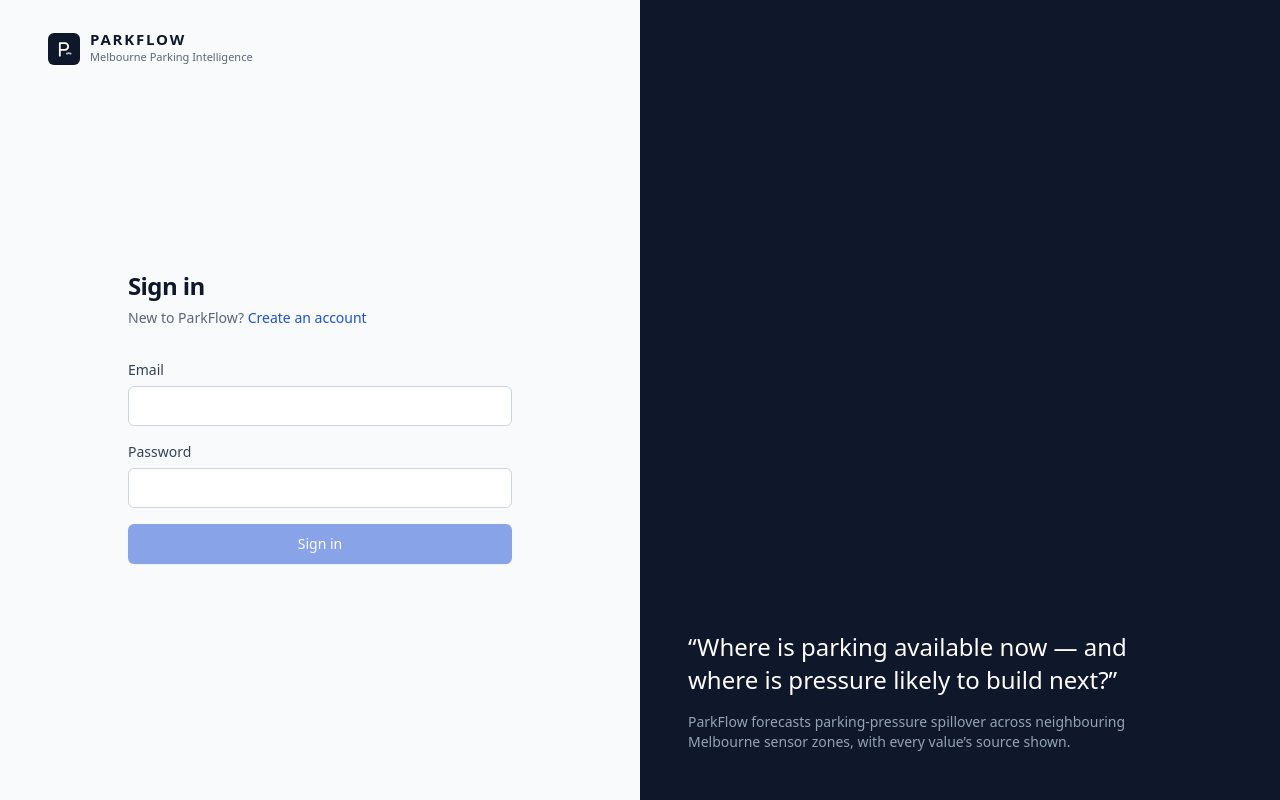
Test: auth › shows server errors on failed login
Type "a@b.co" into the field labelled "Email" at x=320, y=406, box top-left (128, 386), bottom-right (512, 426)
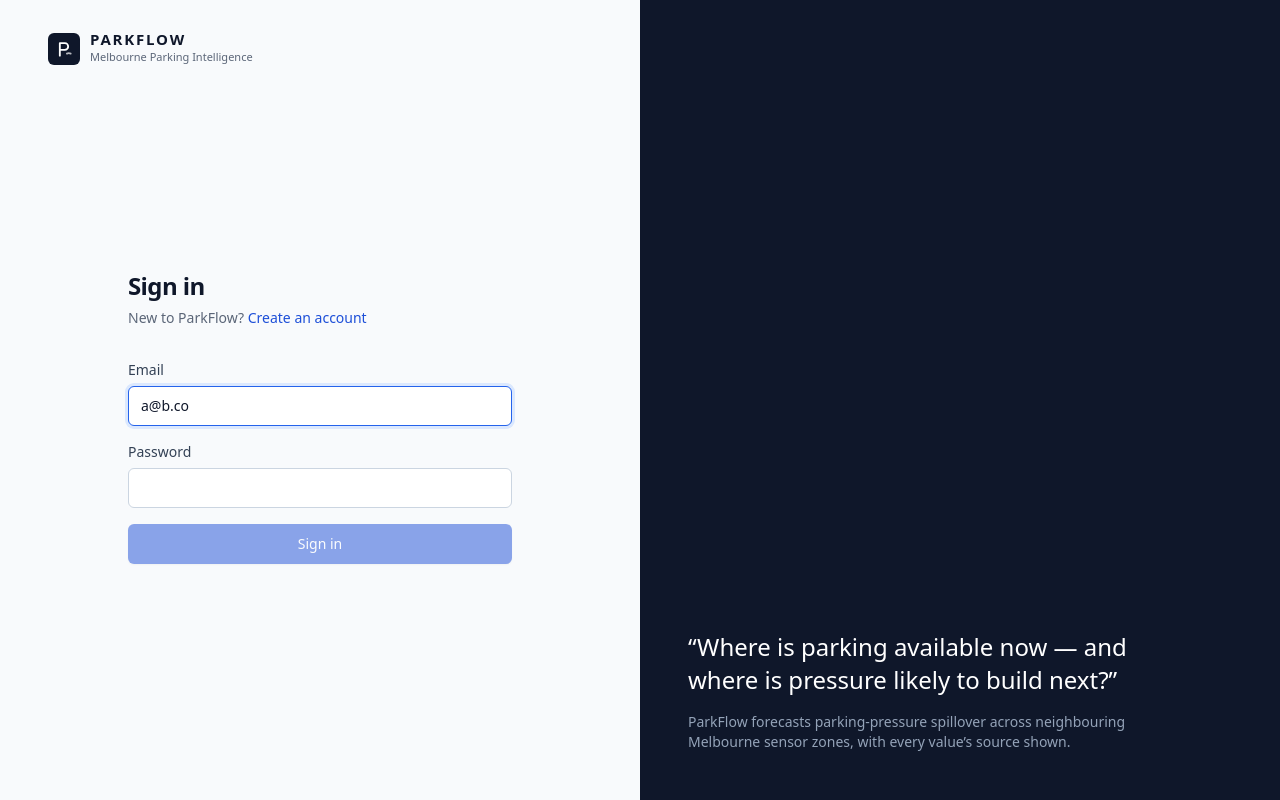
Type "wrong-pass" into the password field labelled "Password" at x=320, y=488, box top-left (128, 468), bottom-right (512, 508)
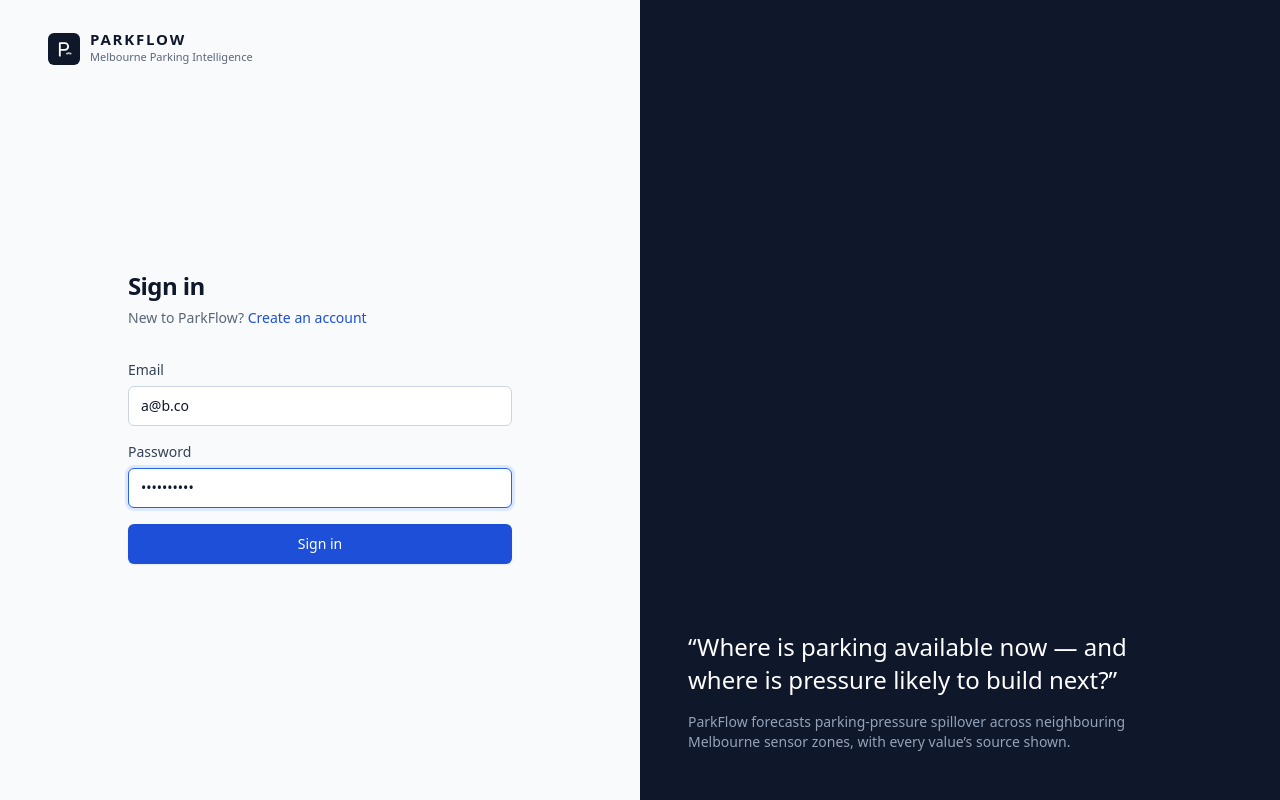
Click the button "Sign in" at x=320, y=544, box top-left (128, 524), bottom-right (512, 564)
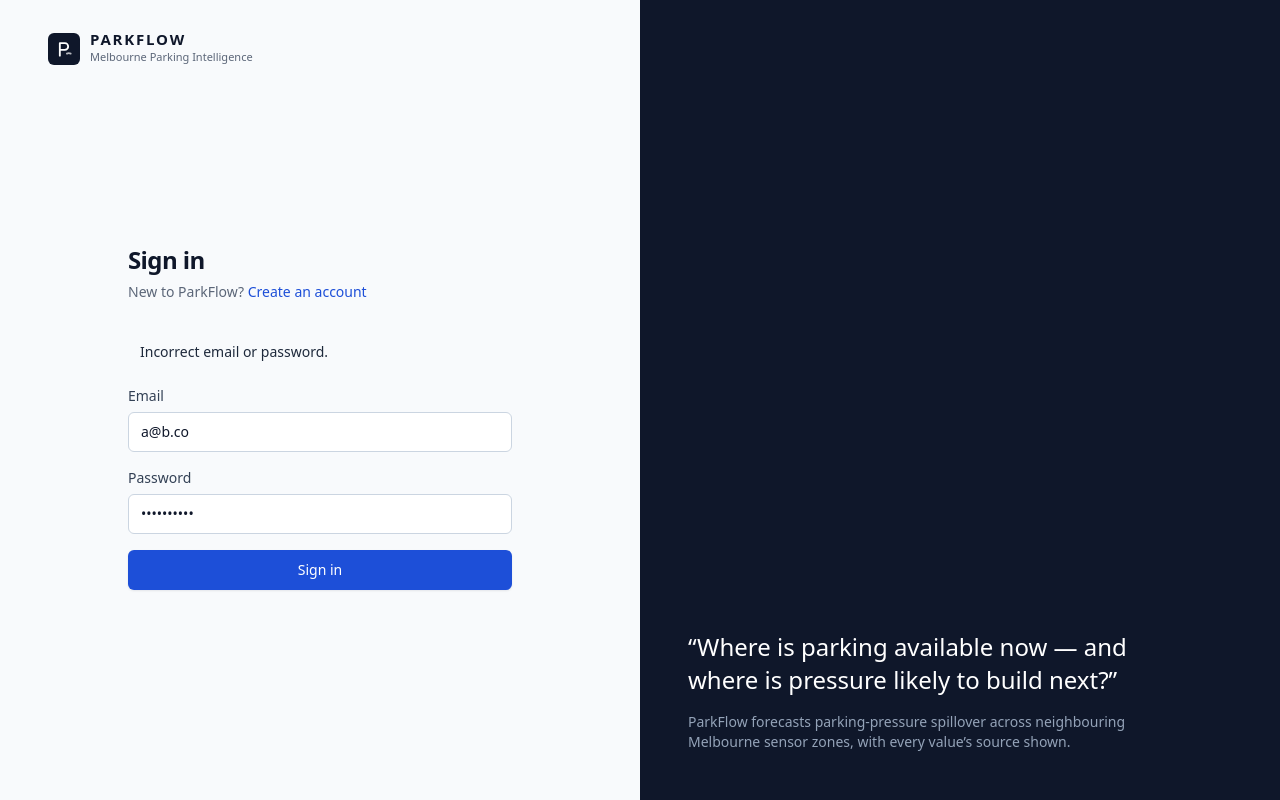
Expected: the message reads "Incorrect email or password.", top-left (140, 342), bottom-right (328, 360)
